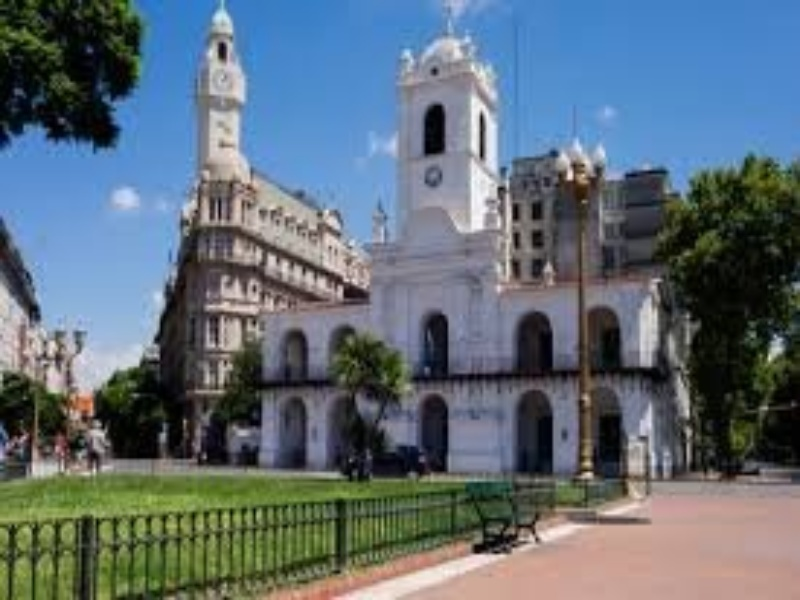cabildo: (254, 3, 670, 498)
